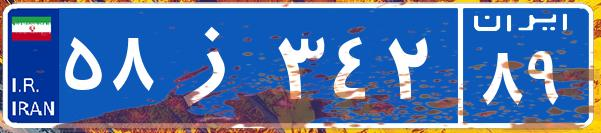2: (385, 28, 445, 110)
3: (273, 28, 330, 110)
4: (330, 28, 385, 110)
5: (57, 26, 110, 107)
8: (475, 38, 525, 113), (110, 28, 158, 105)
9: (525, 38, 570, 115)
ز: (158, 15, 273, 115)
